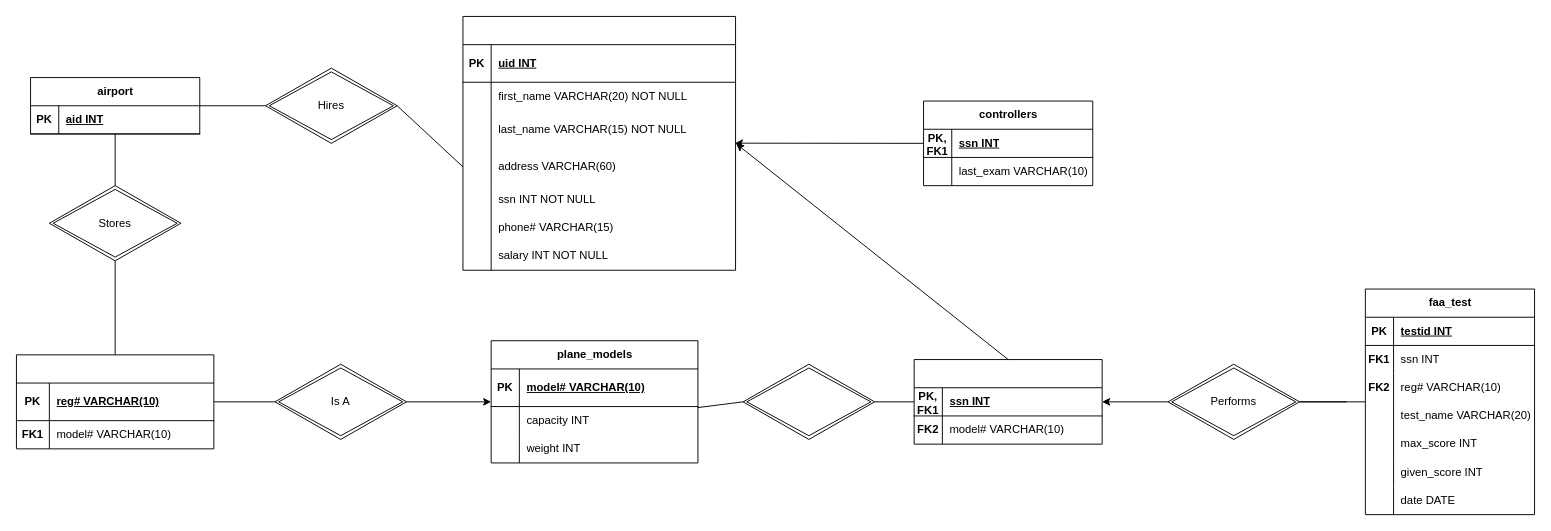
Some shapes in this 1551 by 531 pixel diagram are drawn without their labels. The box of each missing label's shape, as (x1, y1, x2, y2) in pixels:
employees: (462, 16, 736, 270)
Expert on: (742, 363, 875, 439)
planes: (16, 354, 214, 449)
technicians: (913, 359, 1102, 444)
